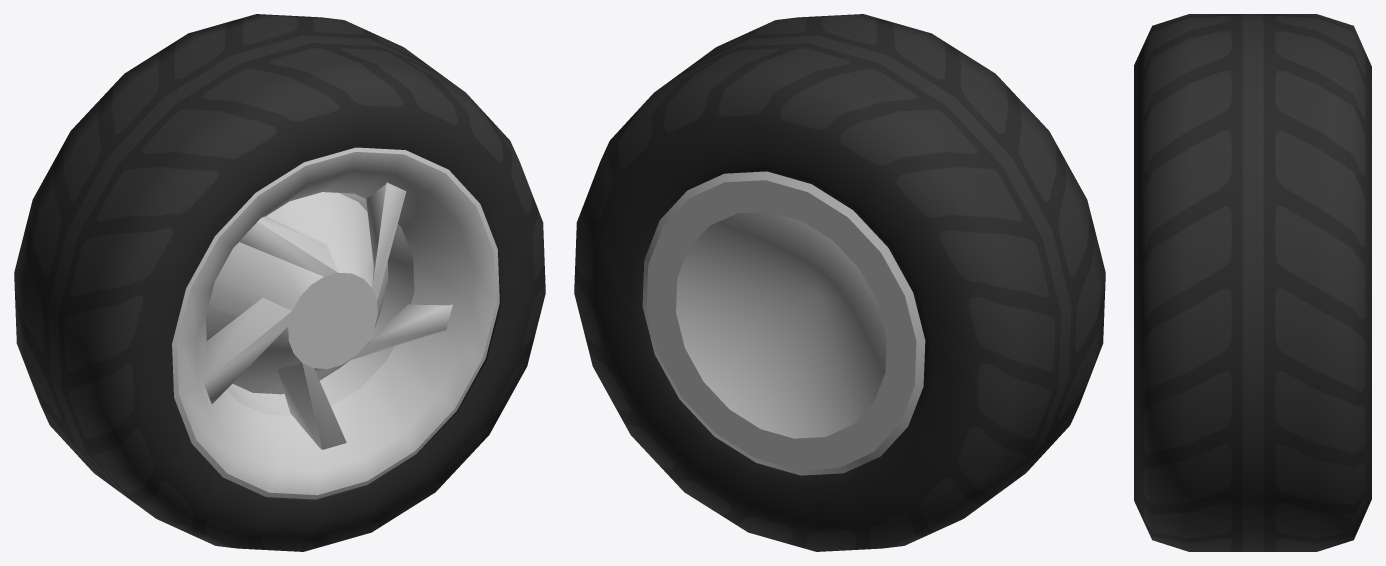
Rendered from Wheel_12.fbx.
3 views of the same model, side by side, from view 1: azimuth 30°, elevation 25°; view 2: azimuth 150°, elevation 25°; view 3: azimuth 270°, elevation 25° (orthographic). The views are drawn at different scales.
Visible parts, largest first — view 1: Wheel_12; view 2: Wheel_12; view 3: Wheel_12.
Part boxes in pixels (x1,y1,x2,y2): Wheel_12: (14, 14, 545, 551); Wheel_12: (574, 14, 1105, 551); Wheel_12: (1134, 14, 1371, 551).
Size of the model in its own units: 94.99 by 42.15 by 94.99.
